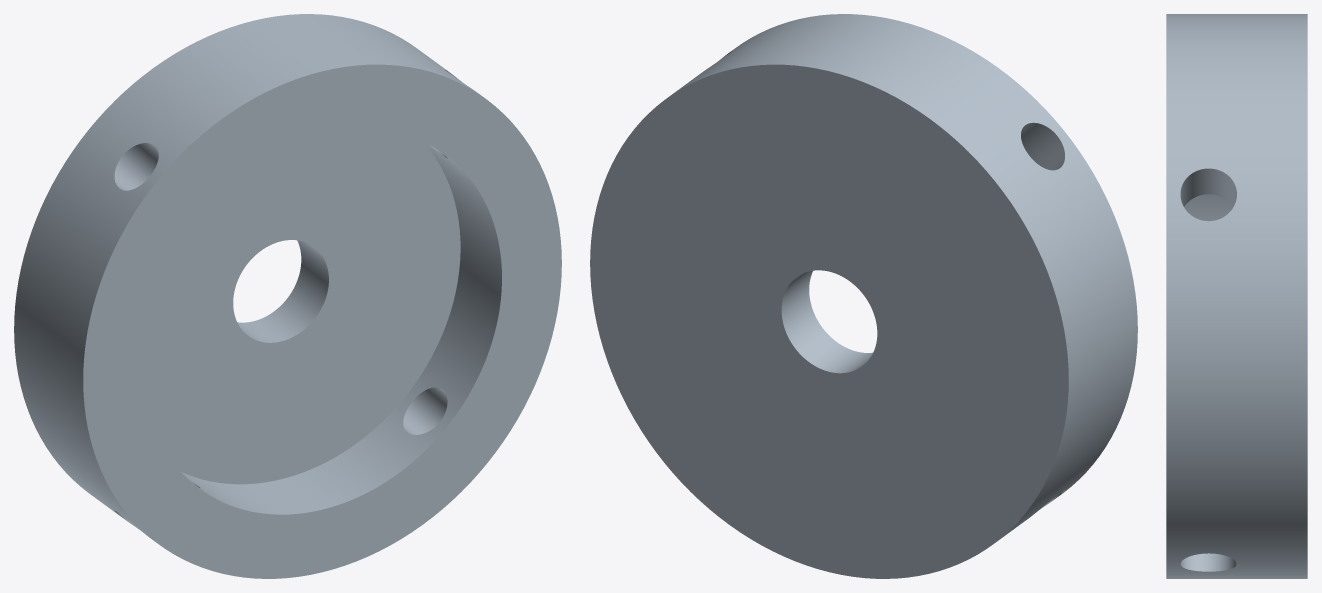
Rendered from outershell.obj.
The picture shows the model from 3 angles, left to right: view 1: azimuth 30°, elevation 25°; view 2: azimuth 150°, elevation 25°; view 3: azimuth 270°, elevation 25°; orthographic projection. The views are drawn at different scales.
Parts seen in each view (by area): view 1: 1; view 2: 1; view 3: 1.
Boxes of the visible parts, left/top/right/bottom form: 1: left=14, top=14, right=561, bottom=578; 1: left=590, top=14, right=1137, bottom=578; 1: left=1166, top=14, right=1307, bottom=578.
Size of the model in its own units: 100 by 100 by 25.
